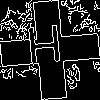H: (25, 25, 65, 74)
